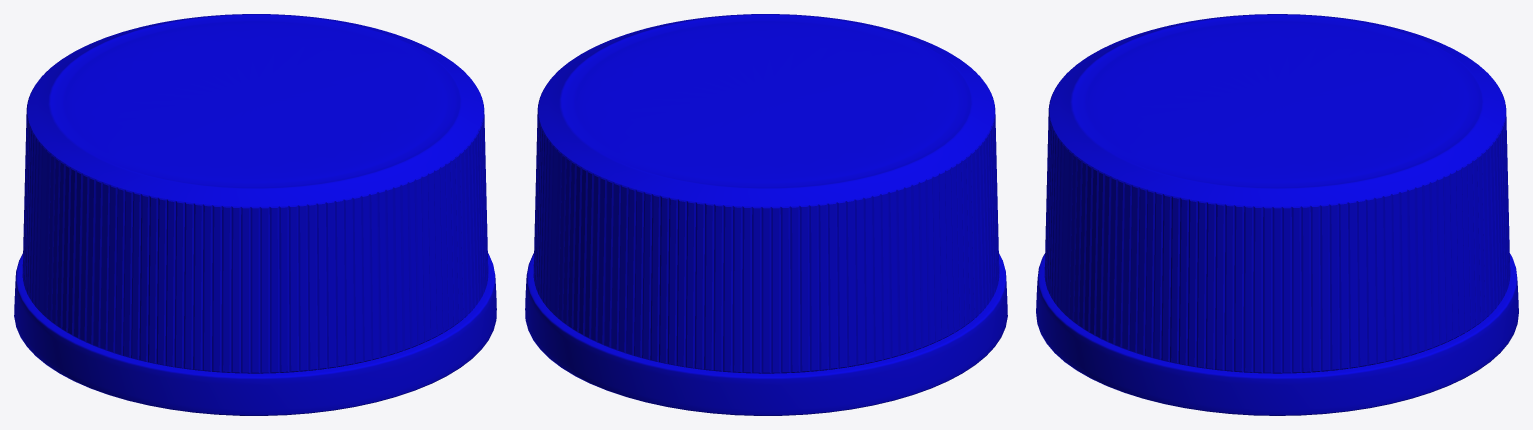
Rendered from Cap2.glb.
3 views of the same model, side by side, from view 1: azimuth 30°, elevation 25°; view 2: azimuth 150°, elevation 25°; view 3: azimuth 270°, elevation 25° (orthographic).
Visible parts, largest first — view 1: Circle, Circle.001; view 2: Circle, Circle.001; view 3: Circle, Circle.001.
Part boxes in pixels (<box>): Circle: <box>14,14,496,415</box>; Circle.001: <box>22,14,488,373</box>; Circle: <box>525,14,1007,415</box>; Circle.001: <box>533,14,999,373</box>; Circle: <box>1036,14,1518,415</box>; Circle.001: <box>1044,14,1510,373</box>.
Size of the model in its own units: 0.0298 by 0.0145 by 0.0298.
